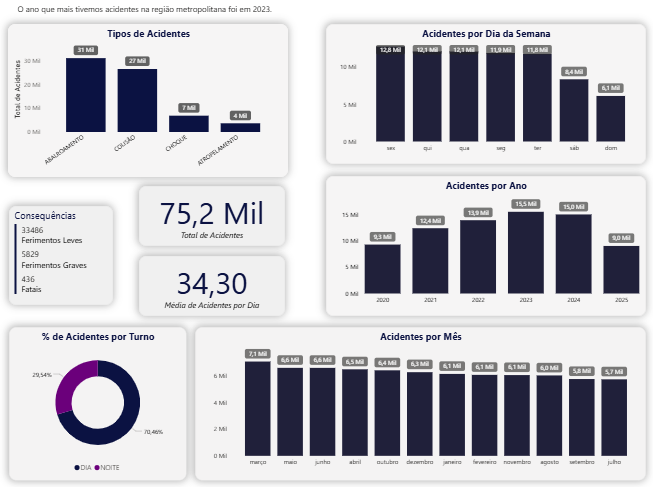

The page's visual inventory and layout, read from the dashboard file:
{"tool":"powerbi","page":{"name":"Página 2","canvas":[1320,1680],"ordinal":1},"visuals":[{"type":"card","fields":{"Values":["acidentes-carro-PortoAlegre.TotalAcidentes"]},"box":[286.7,385,291.7,120],"z":0},{"type":"card","fields":{"Values":["Calendario.Média de Acidentes por Dia"]},"box":[286.7,526.7,291.7,120],"z":1000},{"type":"multiRowCard","title":"Consequências","fields":{"Values":["Sum(acidentes-carro-PortoAlegre.feridos)","Sum(acidentes-carro-PortoAlegre.feridos_gr)","Sum(acidentes-carro-PortoAlegre.fatais)"]},"box":[26.7,426.7,208.3,198.3],"z":2000},{"type":"clusteredColumnChart","title":"Acidentes por Ano","fields":{"Category":["Calendario.Ano"],"Y":["acidentes-carro-PortoAlegre.TotalAcidentes"]},"box":[660,365,640,280],"z":3000},{"type":"clusteredColumnChart","title":"Acidentes por Mês","fields":{"Category":["Calendario.Mes"],"Y":["acidentes-carro-PortoAlegre.TotalAcidentes"]},"box":[398.3,668.3,901.7,306.7],"z":4000},{"type":"columnChart","title":"Acidentes por Dia da Semana","fields":{"Category":["Calendario.Dia da Semana"],"Y":["acidentes-carro-PortoAlegre.TotalAcidentes"]},"box":[660,61.7,640,280],"z":5000},{"type":"donutChart","title":"% de Acidentes por Turno","fields":{"Category":["acidentes-carro-PortoAlegre.noite_dia"],"Y":["acidentes-carro-PortoAlegre.TotalAcidentes"]},"box":[26.7,668.3,355,306.7],"z":6000},{"type":"textbox","box":[65,13.3,441.7,35],"z":7000},{"type":"clusteredColumnChart","title":"Tipos de Acidentes","fields":{"Category":["acidentes-carro-PortoAlegre.tipo_acid"],"Y":["acidentes-carro-PortoAlegre.Total de Acidentes"]},"box":[26.7,61.7,558.3,306.7],"z":8000}]}

Visuals, with their boxes on the page's 1320x1680 design canvas (x1, y1, x2, y2). These are canvas units, not pixel positions in the 654x487 screenshot, which may show the page scaled, cropped or inside an application window:
card - acidentes-carro-PortoAlegre.TotalAcidentes: 287:385:578:505
card - Calendario.Média de Acidentes por Dia: 287:527:578:647
"Consequências" multiRowCard: 27:427:235:625
"Acidentes por Ano" clusteredColumnChart: 660:365:1300:645
"Acidentes por Mês" clusteredColumnChart: 398:668:1300:975
"Acidentes por Dia da Semana" columnChart: 660:62:1300:342
"% de Acidentes por Turno" donutChart: 27:668:382:975
textbox: 65:13:507:48
"Tipos de Acidentes" clusteredColumnChart: 27:62:585:368
